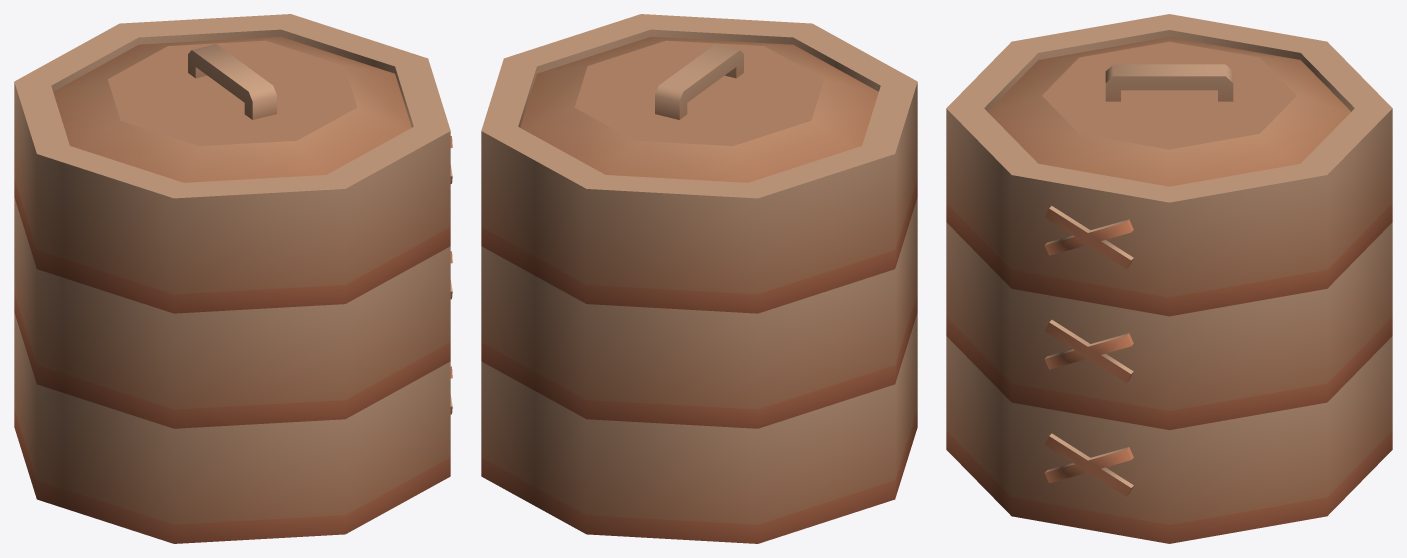
Rendered from steamer.glb.
3 renders of one model, left to right at view 1: azimuth 30°, elevation 25°; view 2: azimuth 150°, elevation 25°; view 3: azimuth 270°, elevation 25°, orthographic.
Visible parts, largest first — view 1: layer (×3), lid; view 2: layer (×3), lid; view 3: layer (×3), lid.
Part boxes in pixels (x1,y1,x2,y2): layer (×3): [14, 14, 452, 543]; lid: [53, 36, 411, 182]; layer (×3): [481, 14, 917, 543]; lid: [520, 36, 878, 182]; layer (×3): [946, 14, 1392, 543]; lid: [988, 37, 1350, 186].
Size of the model in its own units: 0.64 by 0.6 by 0.64.
